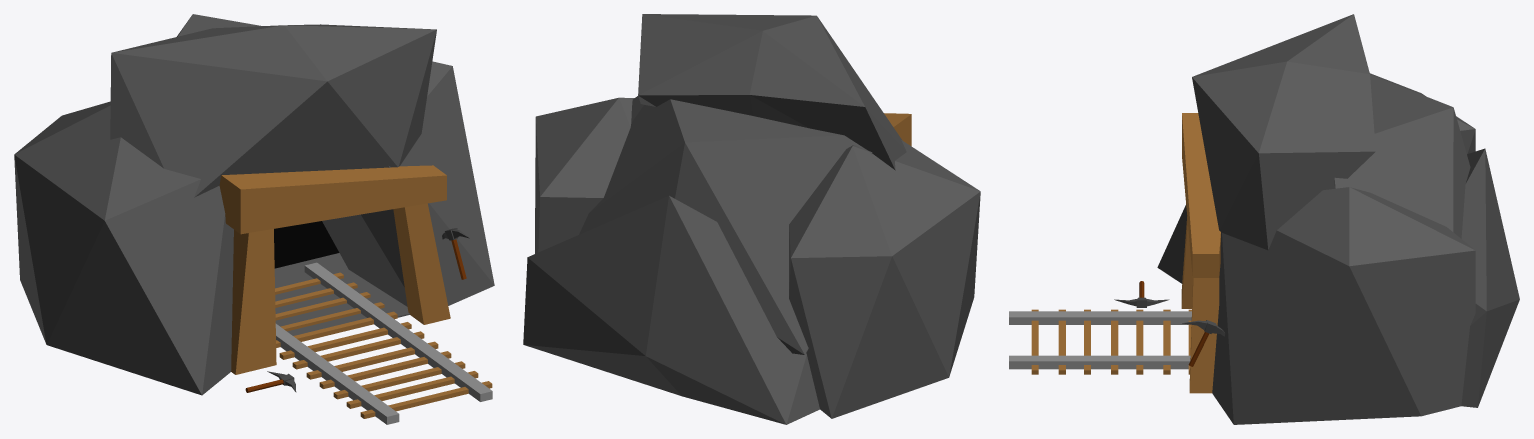
The model's file is Mina.glb.
The picture shows the model from 3 angles, left to right: view 1: azimuth 30°, elevation 25°; view 2: azimuth 150°, elevation 25°; view 3: azimuth 270°, elevation 25°; orthographic projection. The views are drawn at different scales.
Visible parts, largest first — view 1: Cube.016; view 2: Cube.016; view 3: Cube.016.
Boxes of the visible parts, bbox=[...] form: Cube.016: bbox=[14, 14, 494, 424]; Cube.016: bbox=[523, 14, 980, 424]; Cube.016: bbox=[1009, 14, 1519, 424].
Size of the model in its own units: 8.88 by 5.88 by 9.76.
